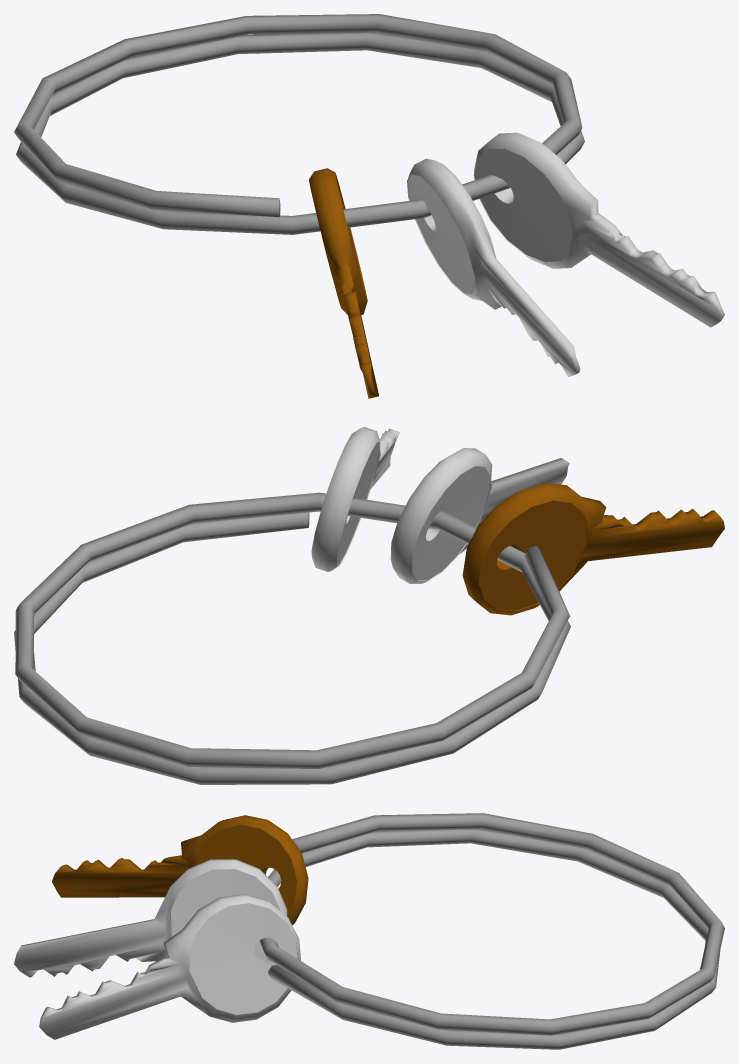
The model's file is Llavero.fbx.
3 renders of one model, top to bottom at view 1: azimuth 30°, elevation 25°; view 2: azimuth 150°, elevation 25°; view 3: azimuth 270°, elevation 25°, orthographic. The views are drawn at different scales.
Visible parts, largest first — view 1: llaves; view 2: llaves; view 3: llaves.
Boxes of the visible parts, x1,y1,x2,y2 form: llaves: (14,14,724,398); llaves: (14,427,724,784); llaves: (14,813,724,1049).
Size of the model in its own units: 0.1027 by 0.0271 by 0.1518.
